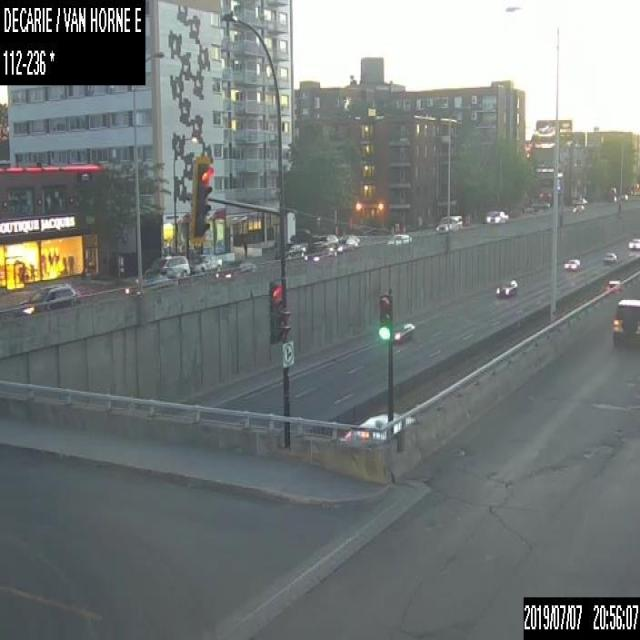vehicle: (342, 405, 414, 442), (15, 282, 77, 314), (611, 296, 639, 348), (140, 252, 190, 280), (216, 259, 256, 276), (188, 253, 222, 272), (391, 319, 414, 343), (332, 233, 358, 254), (304, 245, 336, 261), (276, 242, 304, 258), (434, 215, 462, 230), (495, 278, 517, 296), (311, 233, 337, 246), (387, 232, 411, 244), (486, 210, 508, 222), (562, 258, 580, 270), (603, 250, 616, 262), (605, 279, 621, 288), (627, 238, 639, 250), (448, 213, 449, 215)
